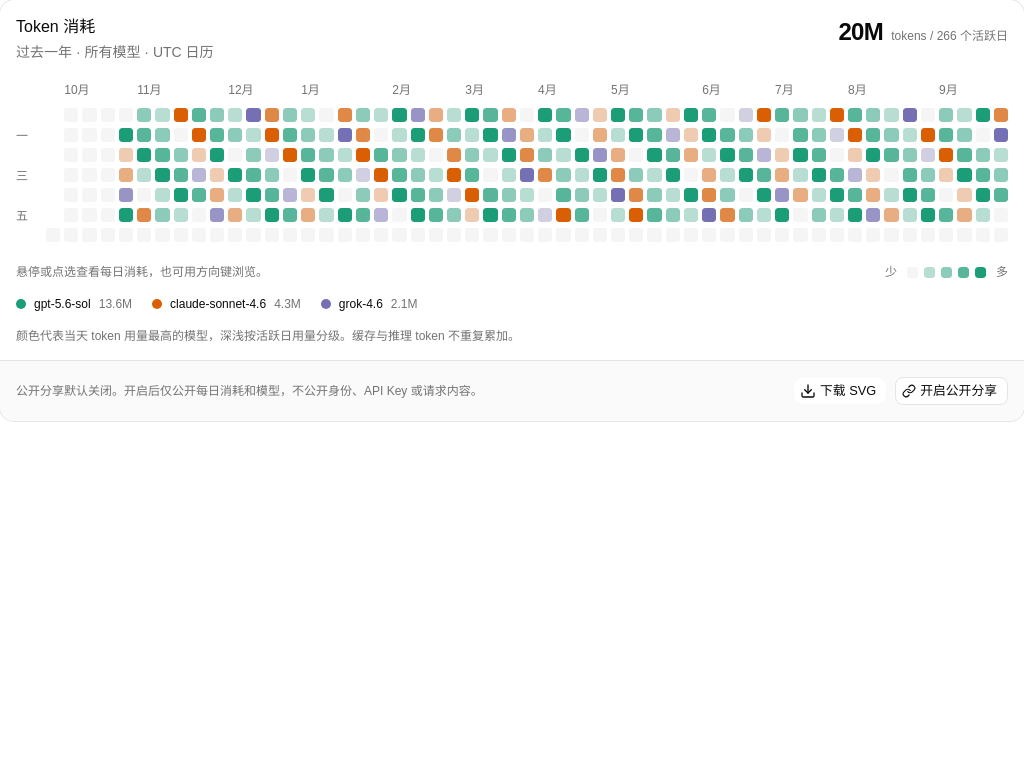
Test: token heatmap › only shares after an explicit action, rotates and revokes the URL
Click the button "开启公开分享": {"x": 952, "y": 391} [895,377,1008,405]
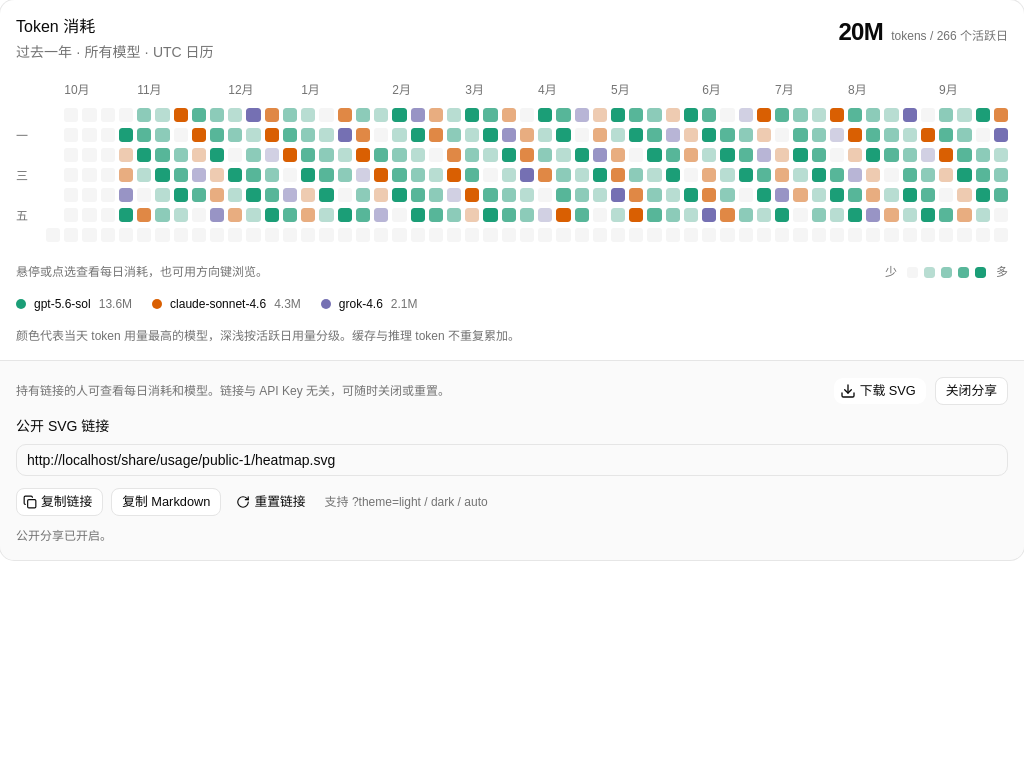
Click the button "重置链接": {"x": 273, "y": 502} [229,488,317,516]
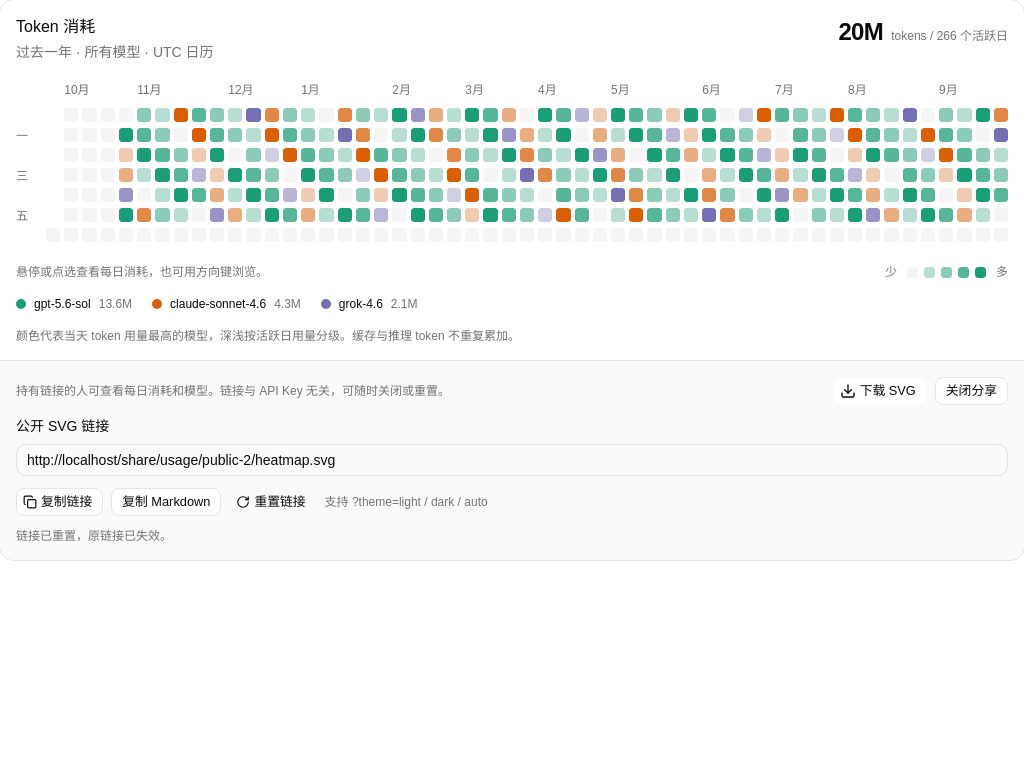
Click the button "关闭分享": {"x": 971, "y": 391} [935,377,1008,405]
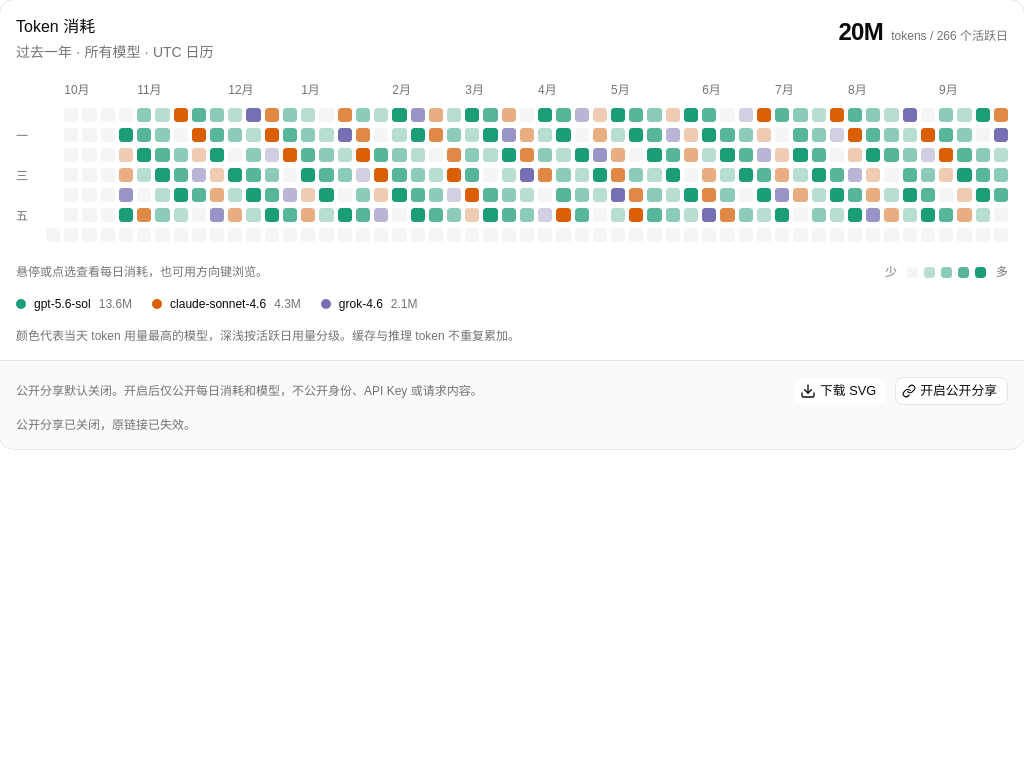
Expected: the text "公开分享已关闭，原链接已失效。" is shown, [16,418,196,432]
